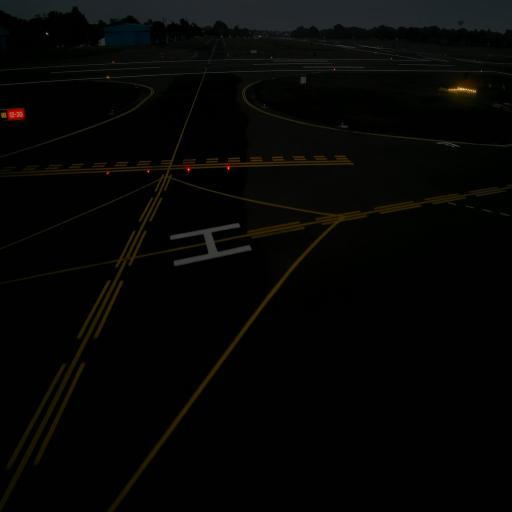on: (184, 163, 193, 177), (144, 164, 152, 177), (104, 166, 111, 178), (225, 160, 231, 173)
